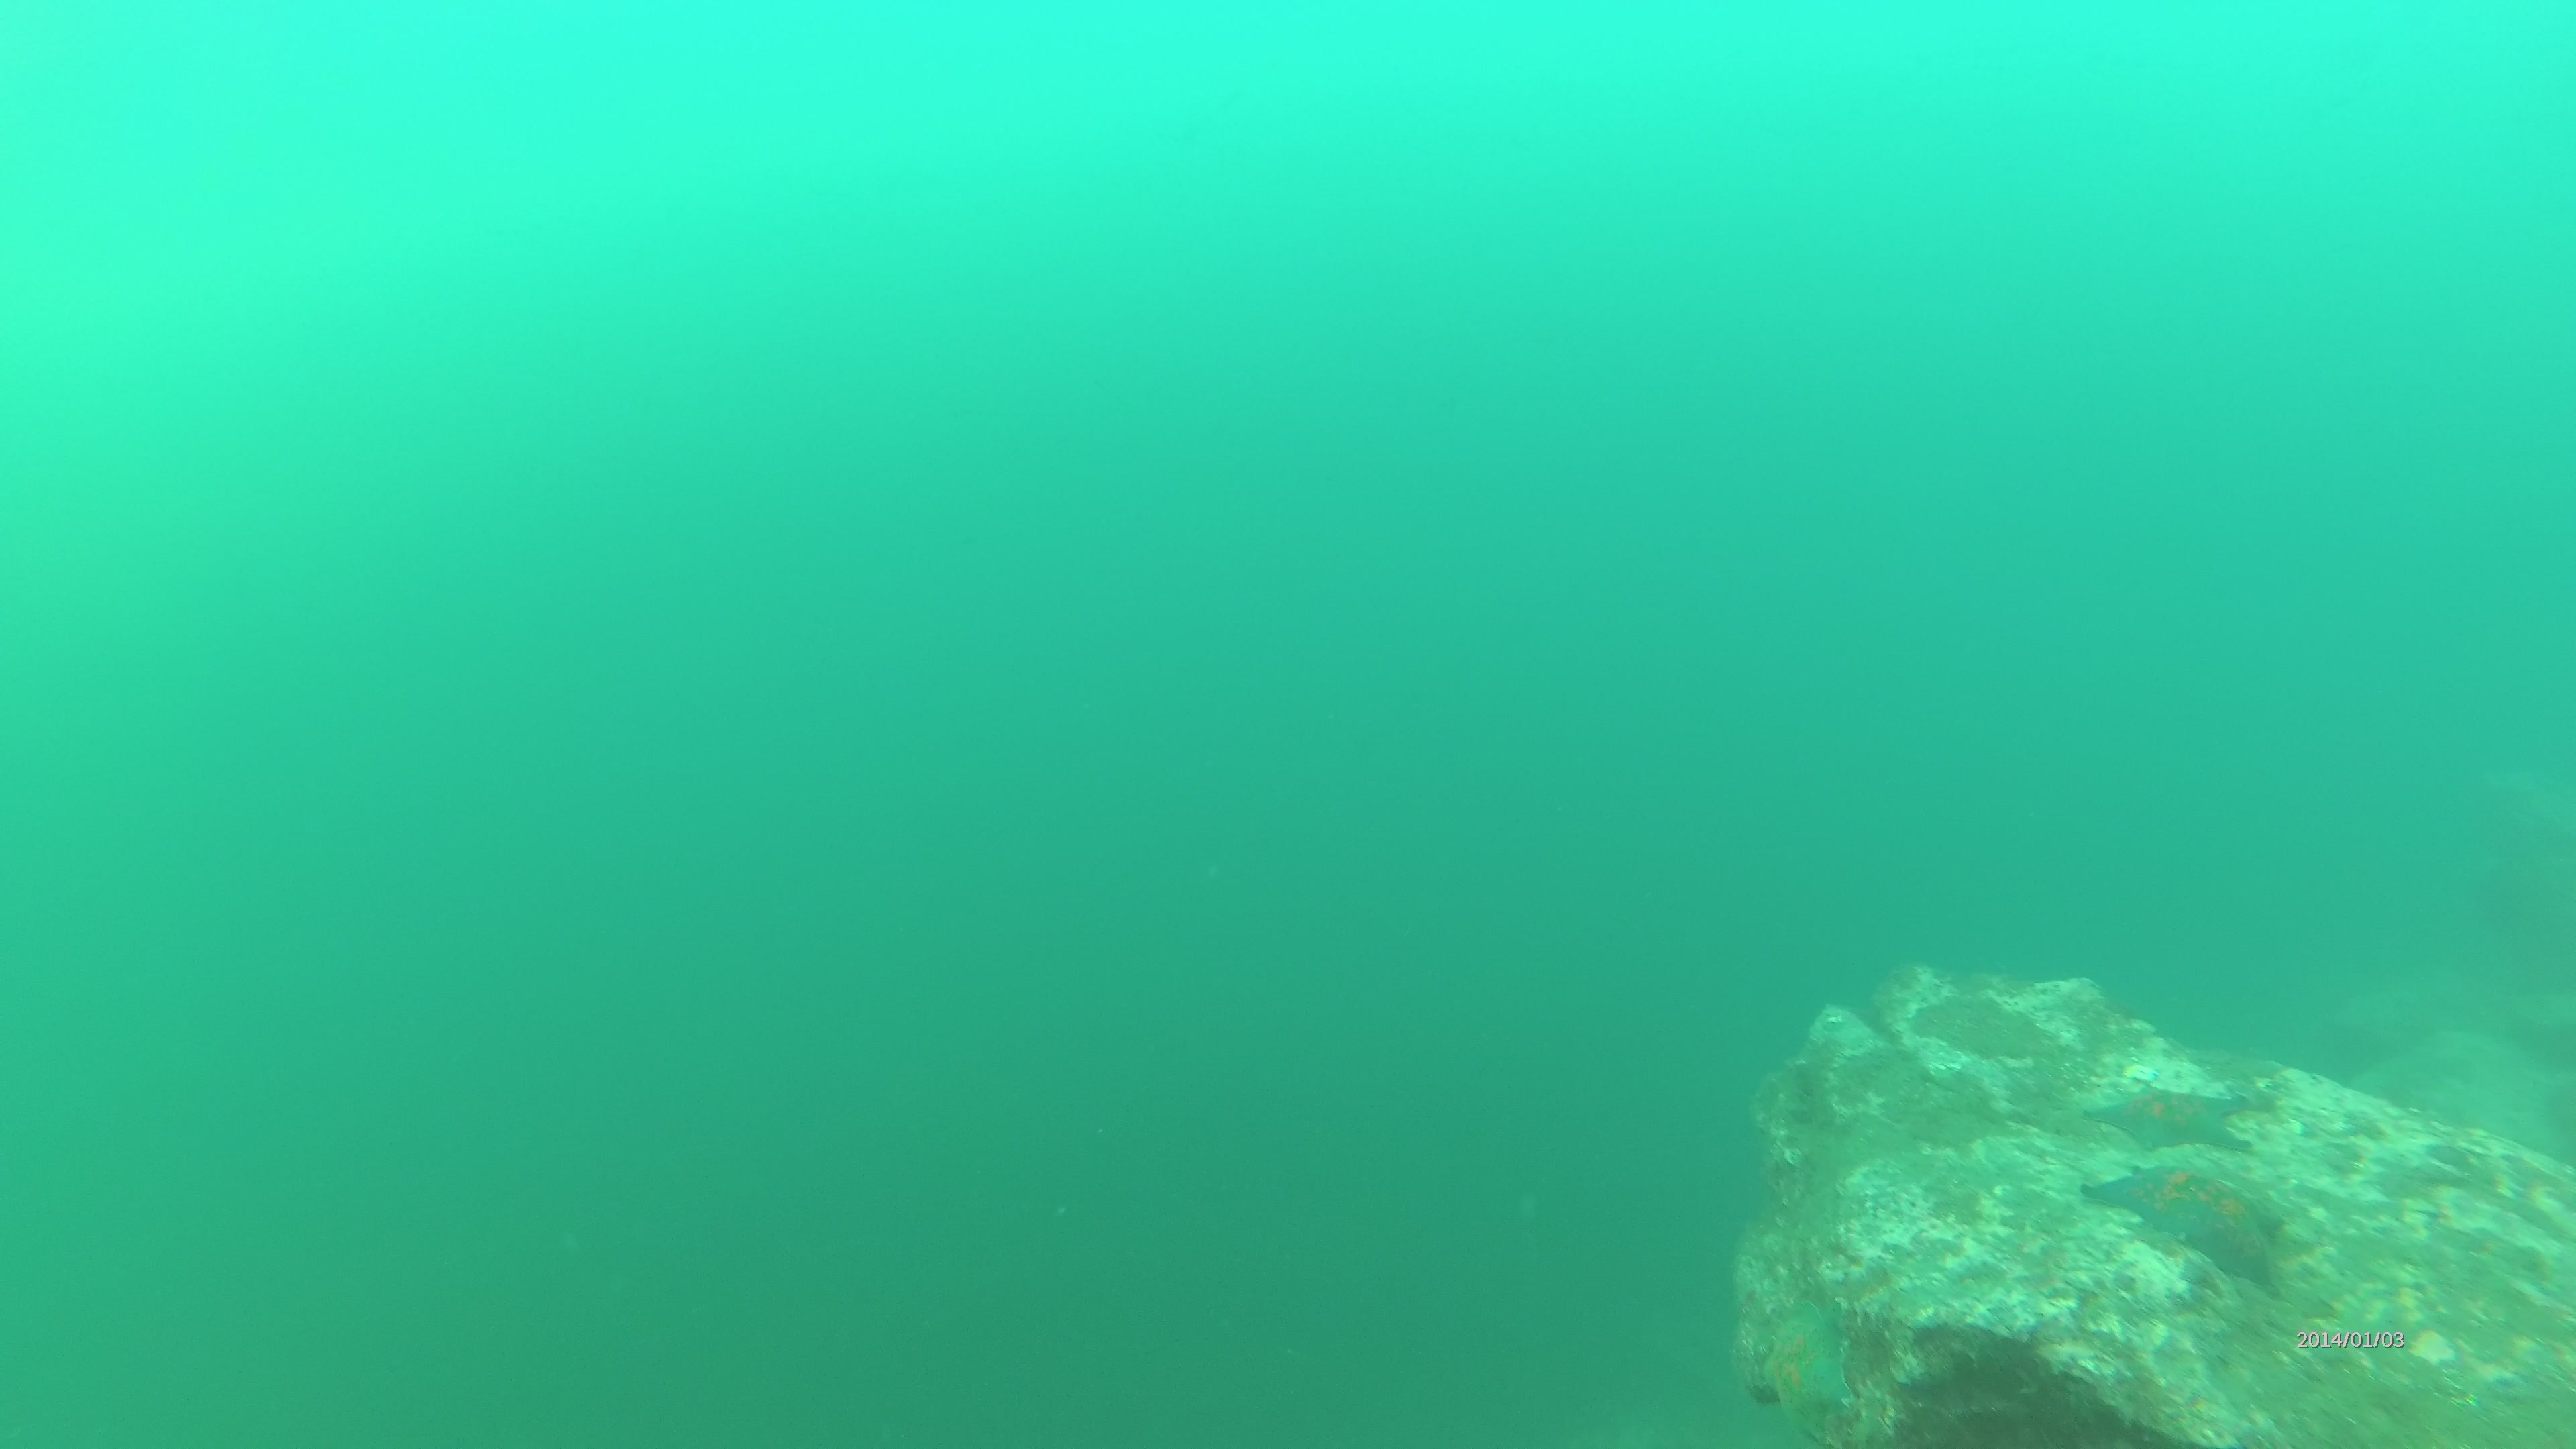starfish: (2081, 1150, 2282, 1277), (1748, 1300, 1874, 1430), (2088, 1077, 2250, 1162)
